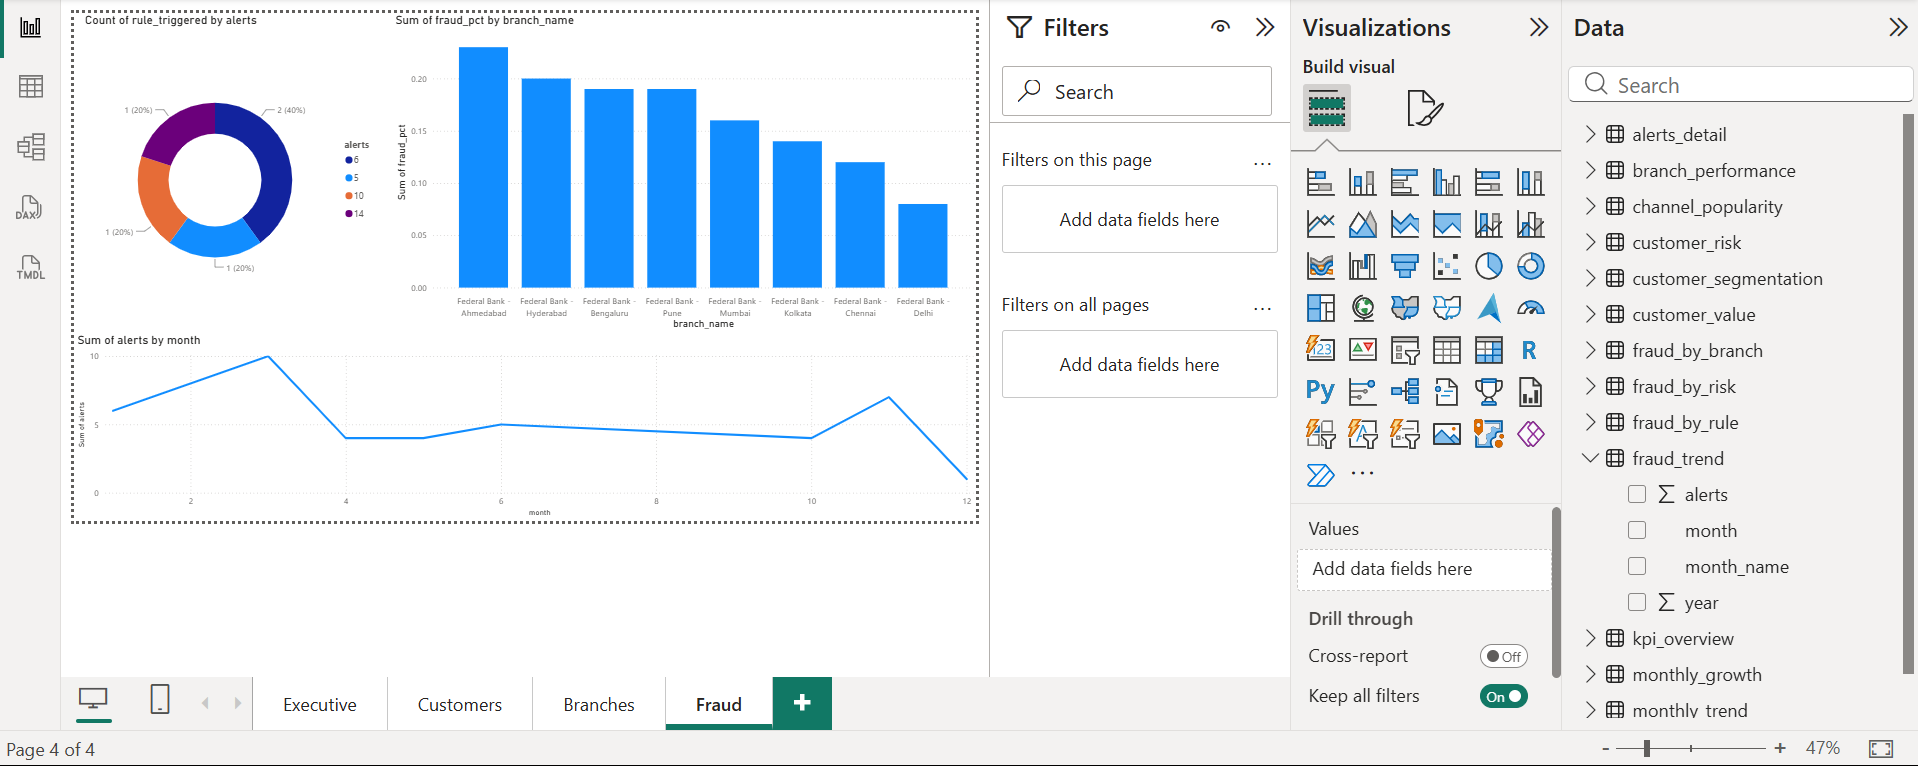

This screenshot's page, from the dashboard's own definition file:
{"tool":"powerbi","page":{"name":"Fraud","canvas":[1280,720],"ordinal":3},"visuals":[{"type":"donutChart","fields":{"Category":["fraud_by_rule.alerts"],"Y":["CountNonNull(fraud_by_rule.rule_triggered)"]},"box":[10,0,432,454],"z":0},{"type":"clusteredColumnChart","fields":{"Category":["branch_performance.branch_name"],"Y":["Sum(branch_performance.fraud_pct)"]},"box":[451.1,0,829.8,453.2],"z":1},{"type":"lineChart","fields":{"Category":["fraud_trend.month"],"Y":["Sum(fraud_trend.alerts)"]},"box":[0,453.2,1280.9,266],"z":2}]}

Visuals, with their boxes on the page's 1280x720 design canvas (x1, y1, x2, y2). These are canvas units, not pixel positions in the 1918x766 screenshot, which may show the page scaled, cropped or inside an application window:
donutChart - fraud_by_rule.alerts x CountNonNull(fraud_by_rule.rule_triggered): (10, 0, 442, 454)
clusteredColumnChart - branch_performance.branch_name x Sum(branch_performance.fraud_pct): (451, 0, 1281, 453)
lineChart - fraud_trend.month x Sum(fraud_trend.alerts): (0, 453, 1281, 719)
